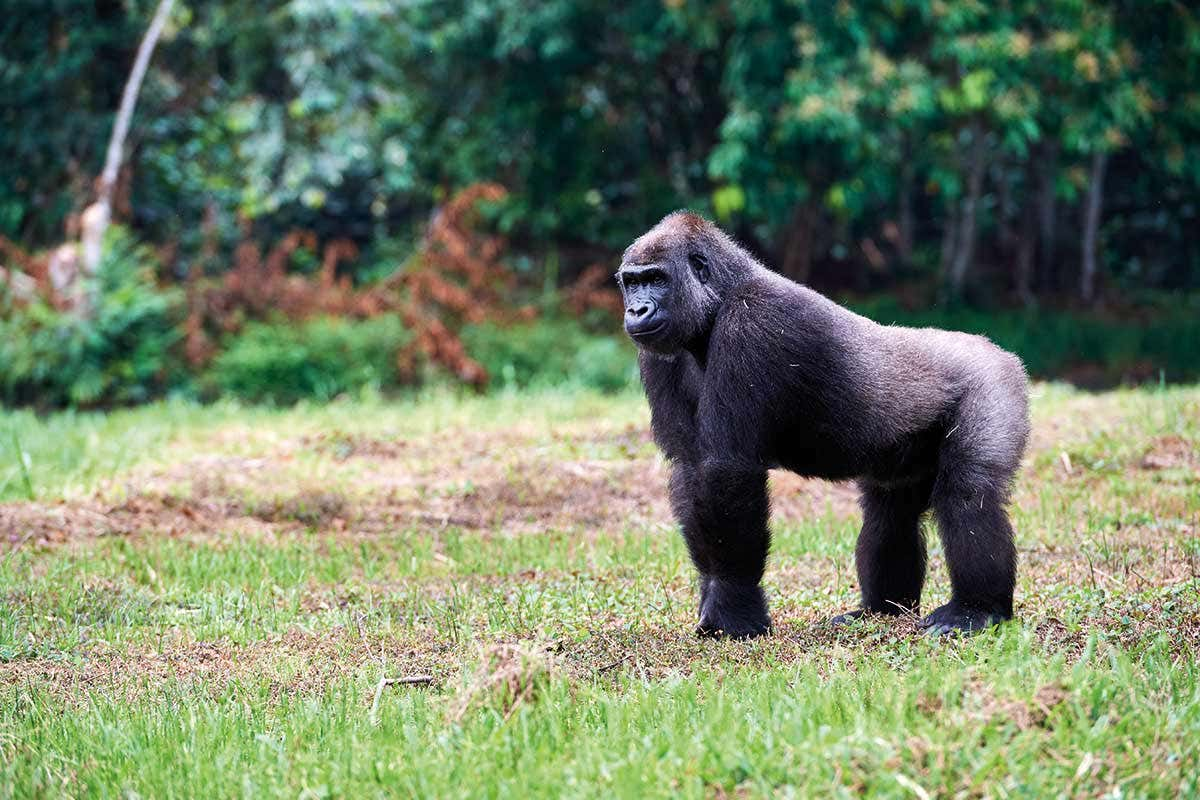Gorilla: (604, 221, 1032, 623)
